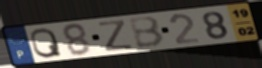2: (168, 12, 203, 46)
8: (61, 22, 93, 58), (201, 10, 231, 40)
B: (127, 15, 167, 50)
Q: (29, 27, 65, 60)
Z: (97, 19, 135, 53)
